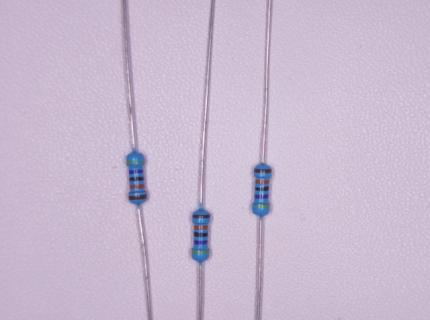Black band: (194, 232, 208, 237), (129, 177, 144, 181), (255, 187, 269, 191)
Brown band: (129, 195, 147, 200), (192, 215, 210, 219), (254, 169, 271, 173)
Orange band: (130, 184, 144, 189), (194, 225, 208, 230), (255, 179, 269, 184)
Violet band: (129, 170, 143, 174), (194, 241, 208, 245), (255, 195, 268, 199)
Yellow band: (253, 204, 270, 208), (127, 161, 144, 164), (192, 250, 209, 253)
